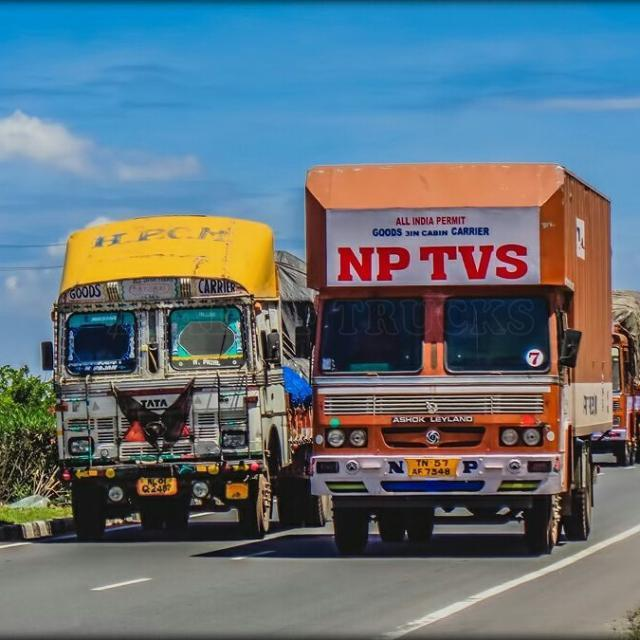Truck: (294, 160, 614, 558), (40, 215, 310, 545), (611, 287, 640, 465)
